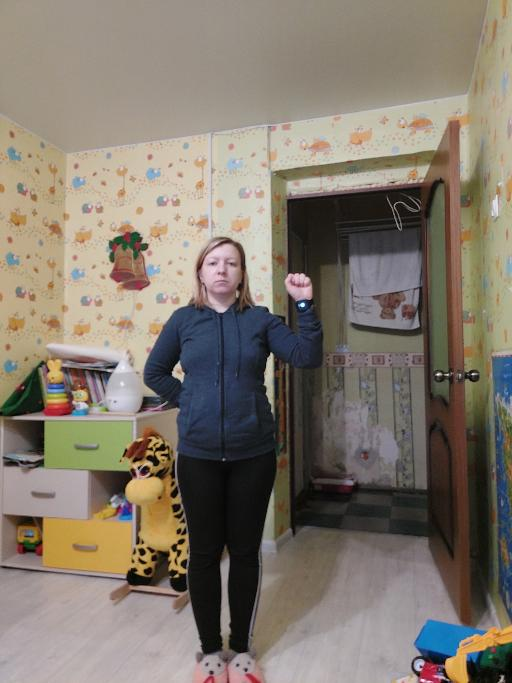fist: (283, 272, 313, 303)
